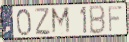1: (79, 6, 88, 35)
B: (89, 5, 107, 36)
F: (107, 5, 124, 34)
M: (50, 6, 72, 36)
O: (15, 8, 32, 38)
Z: (34, 7, 52, 36)
